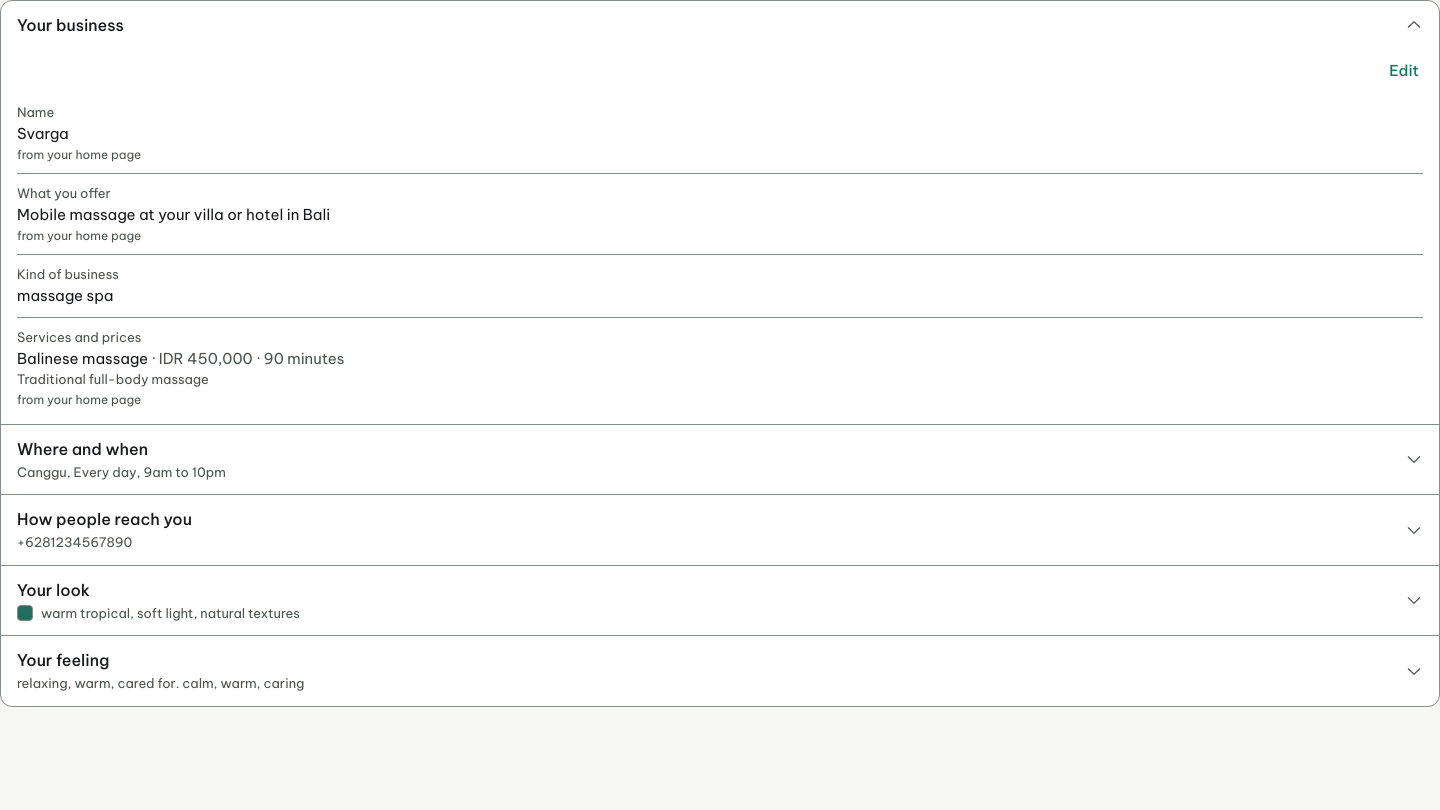
it: the panel on the home screen › a row opens in place with its values, their sources and Edit; again closes it
Click the button "Where and when Canggu, Every day, 9am to 10pm".
click(82, 448)  # box top-left (1, 424), bottom-right (1439, 494)
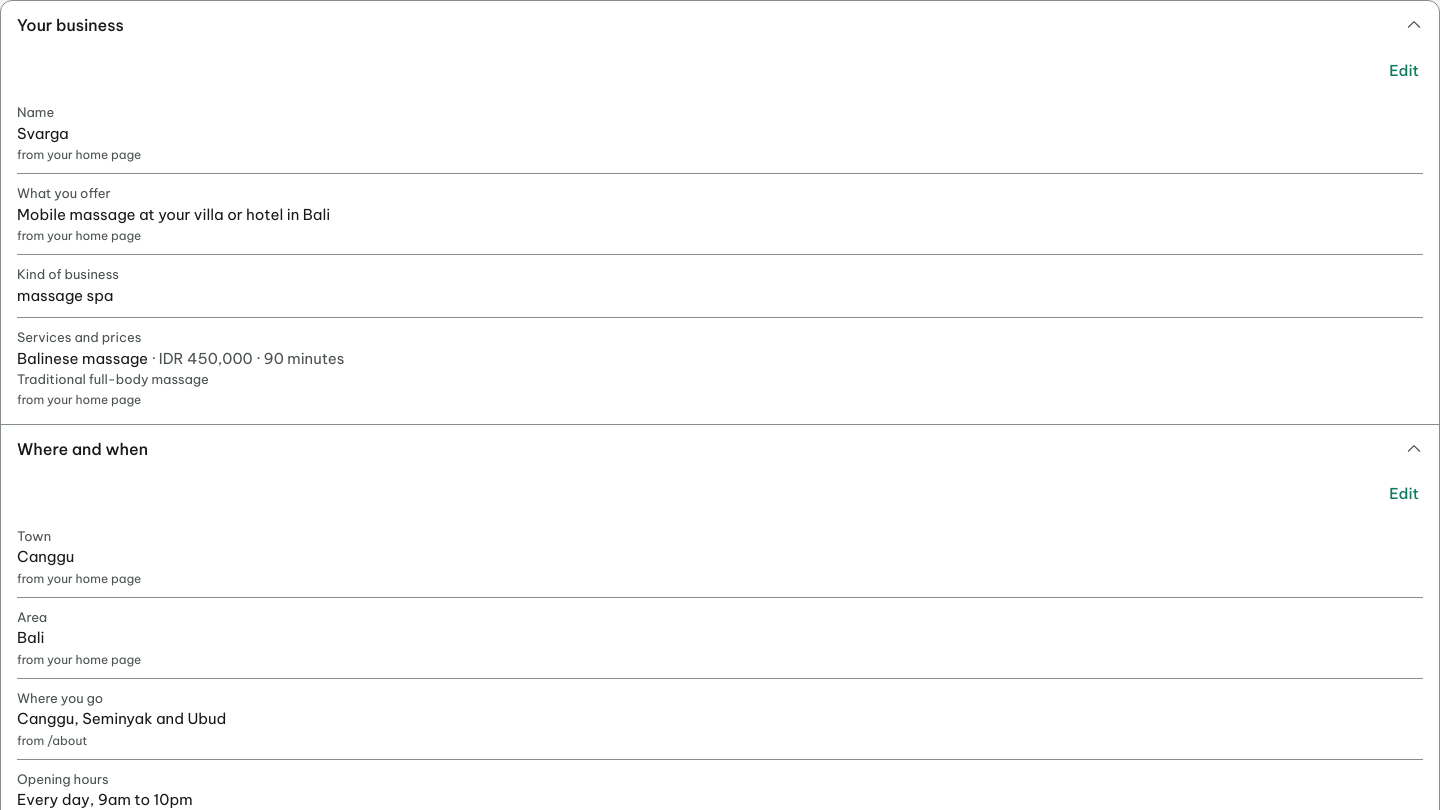
Expected: the button "Where and when" is expanded
Expected: the text "Canggu, Seminyak and Ubud" is shown, top-left (17, 709), bottom-right (226, 728)
Expected: the button with aria-label "Edit Where and when" is shown, top-left (1385, 472), bottom-right (1423, 516)
Click the button "Where and when".
click(82, 448)  # box top-left (1, 424), bottom-right (1439, 472)
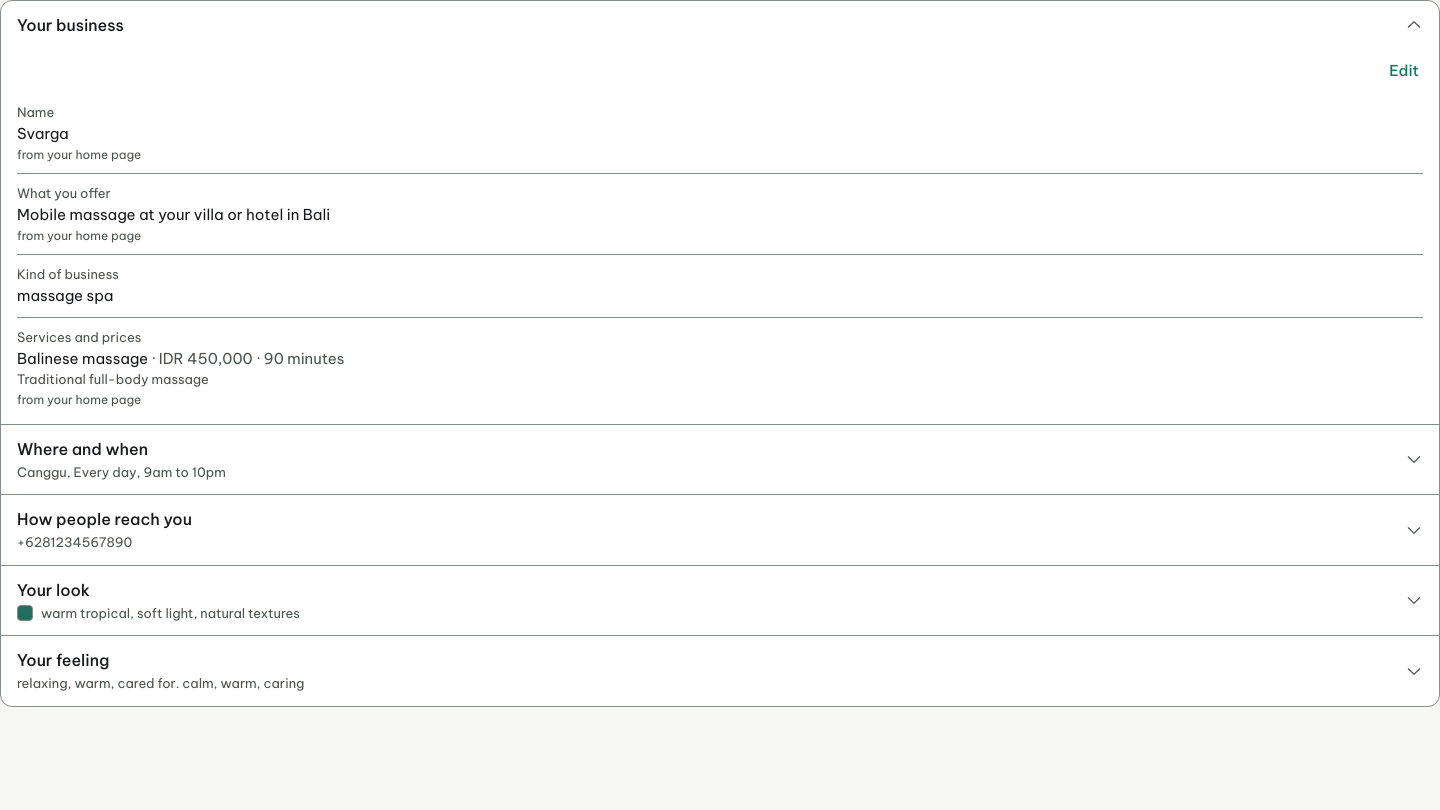
Expected: the text "Canggu, Seminyak and Ubud" is gone
